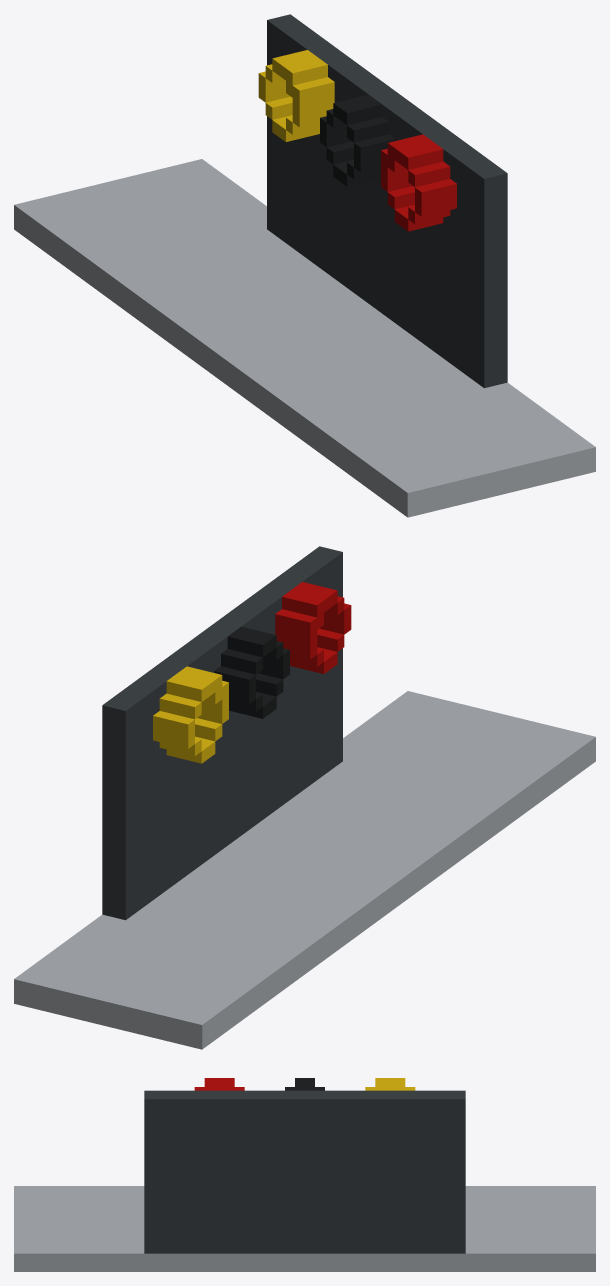
The model's file is semi_tractor_catwalk.glb.
The picture shows the model from 3 angles, top to bottom: view 1: azimuth 30°, elevation 25°; view 2: azimuth 150°, elevation 25°; view 3: azimuth 270°, elevation 25°; orthographic projection. The views are drawn at different scales.
Visible parts, largest first — view 1: body:compound; view 2: body:compound; view 3: body:compound.
Part boxes in pixels (box(x1,y1,x2,y2)): body:compound: box(14, 14, 595, 517); body:compound: box(14, 546, 595, 1049); body:compound: box(14, 1078, 595, 1271).
Bounding box in the file's own units: 0.5 × 0.5938 × 1.81.
